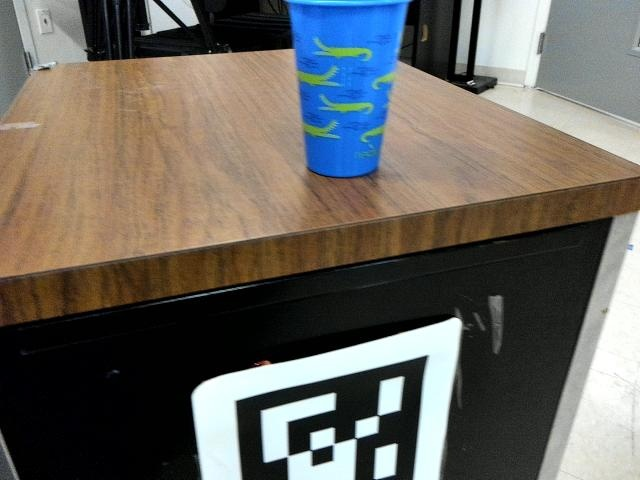water_cup: (279, 1, 417, 186)
